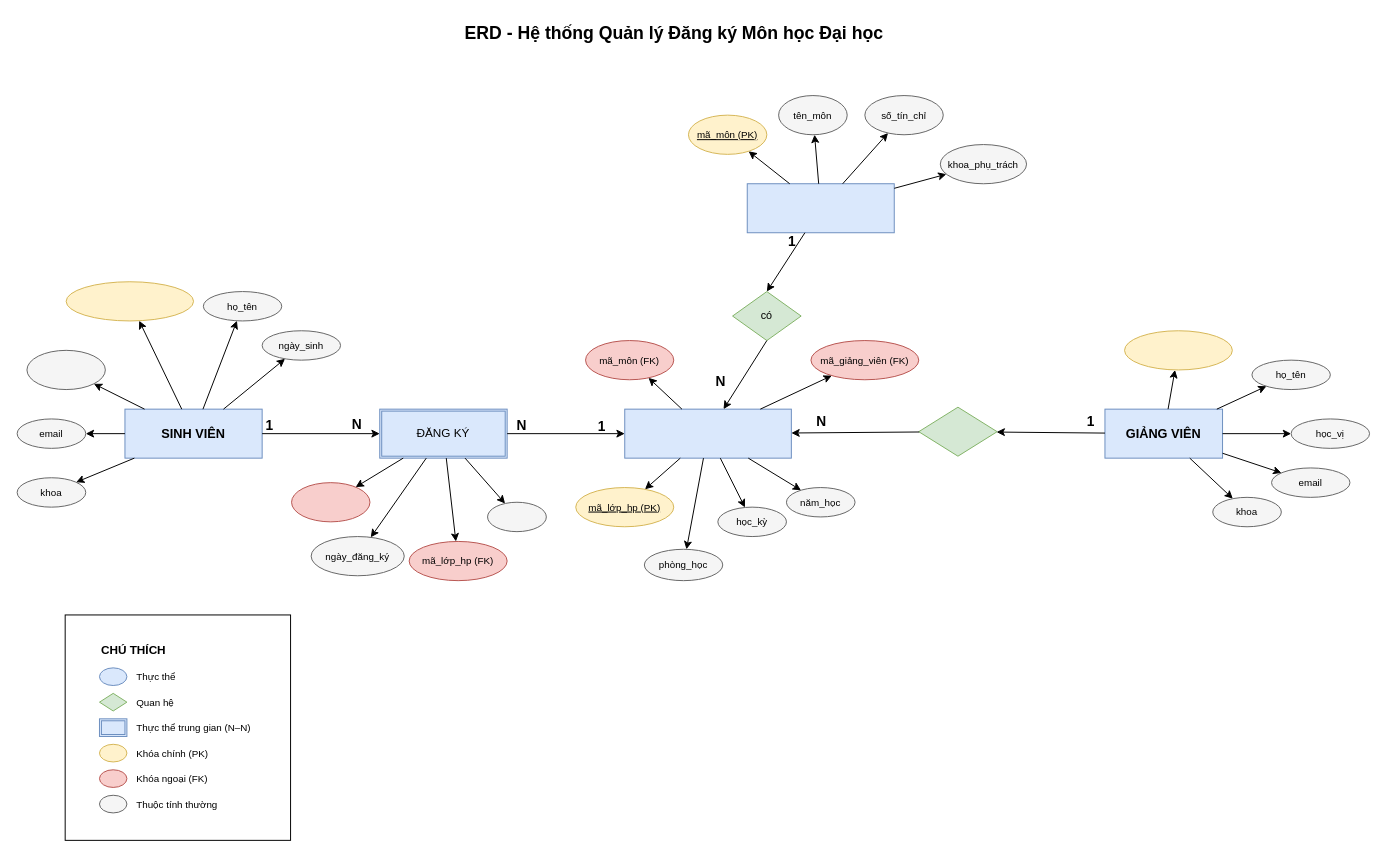
Image size: 1387x858. Some labels were removed from this diagram. Here are the shapes that lost their labels. From the top down, the box of each, then its label:
(746, 183, 894, 233): MÔN HỌC
(65, 281, 194, 321): mã_sinh_viên (PK)
(26, 349, 105, 390): giới_tính
(1124, 330, 1232, 370): mã_giảng_viên (PK)
(624, 408, 791, 458): LỚP HỌC PHẦN
(918, 406, 997, 456): dạy
(291, 482, 370, 522): mã_sv (FK)
(487, 501, 546, 532): điểm
